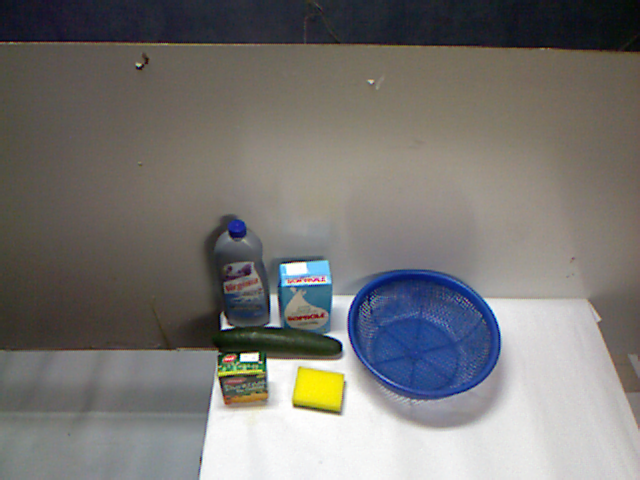cera: (305, 227, 363, 339)
cloro: (233, 238, 297, 336)
colador: (351, 270, 506, 403)
crema: (301, 318, 343, 370)
limon: (225, 329, 282, 373)
pepino: (234, 374, 384, 419)
